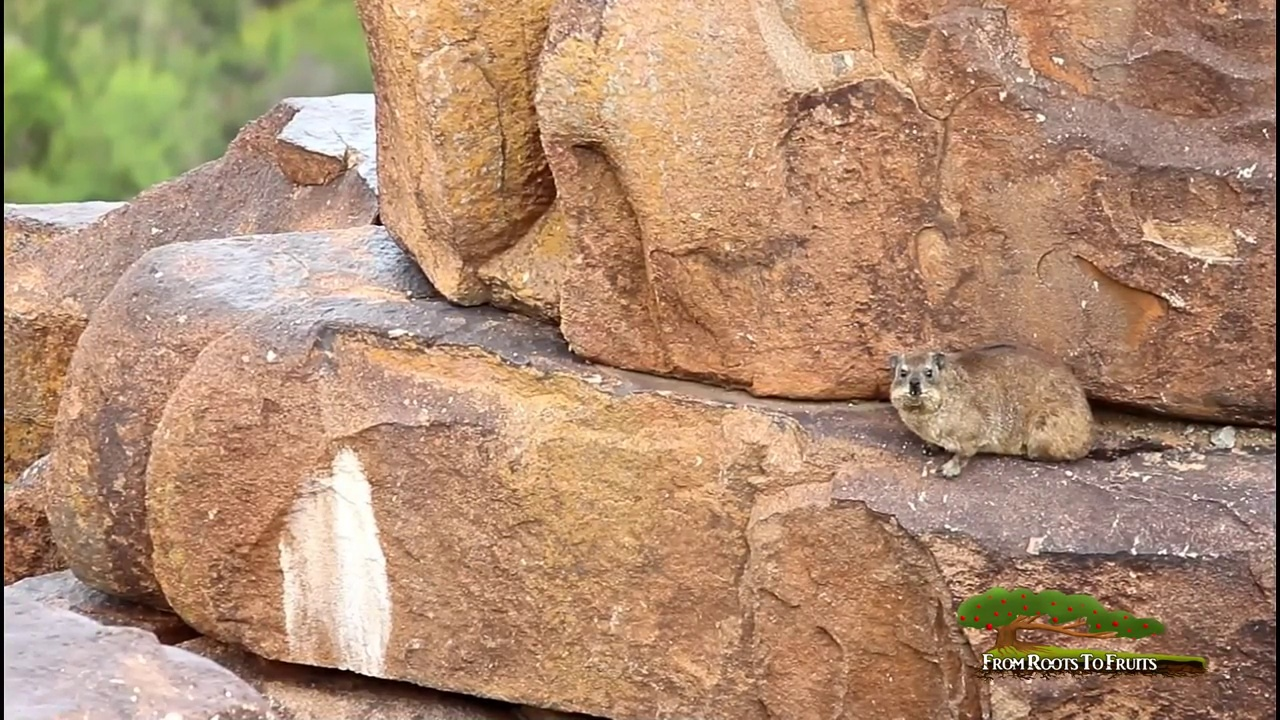Rock Hyrex: (888, 341, 1096, 477)
